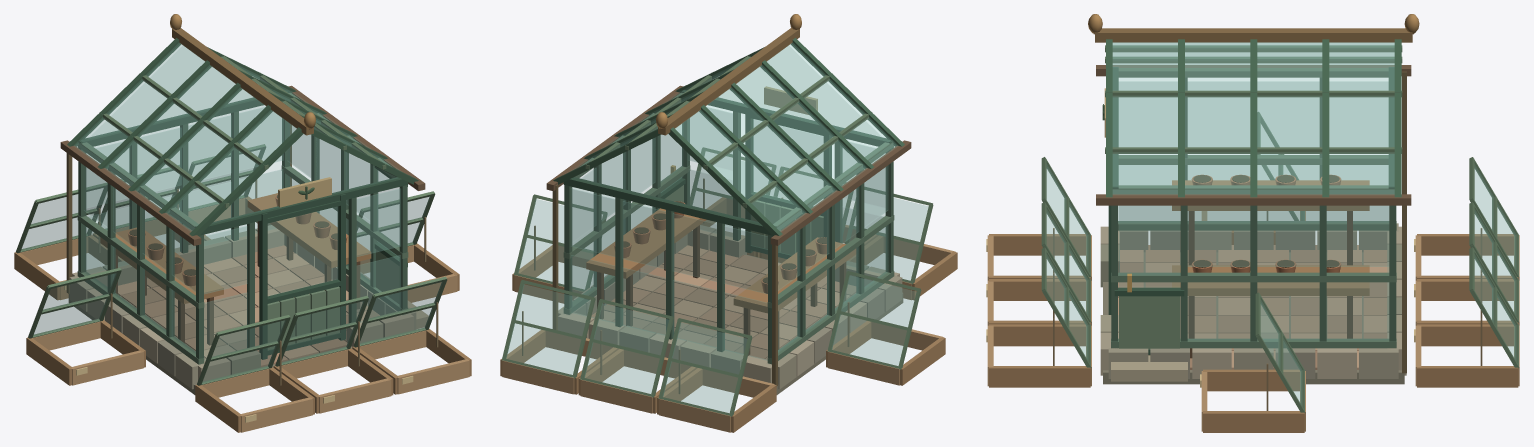
File: greenhouse.glb
3 views of the same model, side by side, from view 1: azimuth 30°, elevation 25°; view 2: azimuth 150°, elevation 25°; view 3: azimuth 270°, elevation 25° (orthographic). The views are drawn at different scales.
Visible parts, largest first — view 1: _MeshInstance3D_158, _MeshInstance3D_171, _MeshInstance3D_105, _MeshInstance3D_106, _MeshInstance3D_107, _MeshInstance3D_108, _MeshInstance3D_258, _MeshInstance3D_282, _MeshInstance3D_294, _MeshInstance3D_306, _MeshInstance3D_157, _MeshInstance3D_155 (+100 smaller); view 2: _MeshInstance3D_121, _MeshInstance3D_246, _MeshInstance3D_234, _MeshInstance3D_258, _MeshInstance3D_222, _MeshInstance3D_108, _MeshInstance3D_107, _MeshInstance3D_106, _MeshInstance3D_105, _MeshInstance3D_171, _MeshInstance3D_270, _MeshInstance3D_120 (+99 smaller); view 3: _MeshInstance3D_144, _MeshInstance3D_146, _MeshInstance3D_147, _MeshInstance3D_145, _MeshInstance3D_161, _MeshInstance3D_185, _MeshInstance3D_151, _MeshInstance3D_149, _MeshInstance3D_153, _MeshInstance3D_112, _MeshInstance3D_114, _MeshInstance3D_159 (+81 smaller).
Boxes of the visible parts, x1=… form: _MeshInstance3D_158: x1=213, y1=134, x2=396, y2=222; _MeshInstance3D_171: x1=268, y1=207, x2=337, y2=295; _MeshInstance3D_105: x1=74, y1=43, x2=204, y2=164; _MeshInstance3D_106: x1=104, y1=65, x2=235, y2=186; _MeshInstance3D_107: x1=135, y1=87, x2=265, y2=209; _MeshInstance3D_108: x1=166, y1=110, x2=296, y2=231; _MeshInstance3D_258: x1=33, y1=273, x2=116, y2=335; _MeshInstance3D_282: x1=202, y1=320, x2=285, y2=382; _MeshInstance3D_294: x1=282, y1=301, x2=364, y2=363; _MeshInstance3D_306: x1=360, y1=282, x2=442, y2=344; _MeshInstance3D_157: x1=357, y1=188, x2=400, y2=256; _MeshInstance3D_155: x1=204, y1=226, x2=247, y2=293; _MeshInstance3D_121: x1=575, y1=134, x2=758, y2=222; _MeshInstance3D_246: x1=506, y1=284, x2=590, y2=374; _MeshInstance3D_234: x1=584, y1=303, x2=668, y2=393; _MeshInstance3D_258: x1=832, y1=275, x2=916, y2=365; _MeshInstance3D_222: x1=663, y1=323, x2=747, y2=412; _MeshInstance3D_108: x1=767, y1=43, x2=897, y2=164; _MeshInstance3D_107: x1=736, y1=65, x2=867, y2=186; _MeshInstance3D_106: x1=706, y1=87, x2=836, y2=209; _MeshInstance3D_105: x1=675, y1=110, x2=805, y2=231; _MeshInstance3D_171: x1=753, y1=119, x2=823, y2=205; _MeshInstance3D_270: x1=518, y1=199, x2=593, y2=284; _MeshInstance3D_120: x1=571, y1=188, x2=614, y2=256; _MeshInstance3D_144: x1=1329, y1=42, x2=1394, y2=194; _MeshInstance3D_146: x1=1185, y1=42, x2=1249, y2=194; _MeshInstance3D_147: x1=1113, y1=42, x2=1177, y2=194; _MeshInstance3D_145: x1=1257, y1=42, x2=1321, y2=194; _MeshInstance3D_161: x1=1095, y1=28, x2=1412, y2=42; _MeshInstance3D_185: x1=1119, y1=206, x2=1179, y2=287; _MeshInstance3D_151: x1=1257, y1=206, x2=1319, y2=266; _MeshInstance3D_149: x1=1327, y1=206, x2=1388, y2=266; _MeshInstance3D_153: x1=1188, y1=206, x2=1249, y2=266; _MeshInstance3D_112: x1=1257, y1=81, x2=1319, y2=146; _MeshInstance3D_114: x1=1188, y1=81, x2=1249, y2=146; _MeshInstance3D_159: x1=1096, y1=194, x2=1411, y2=205.
Size of the model in its own units: 4.98 by 3.16 by 4.99.
